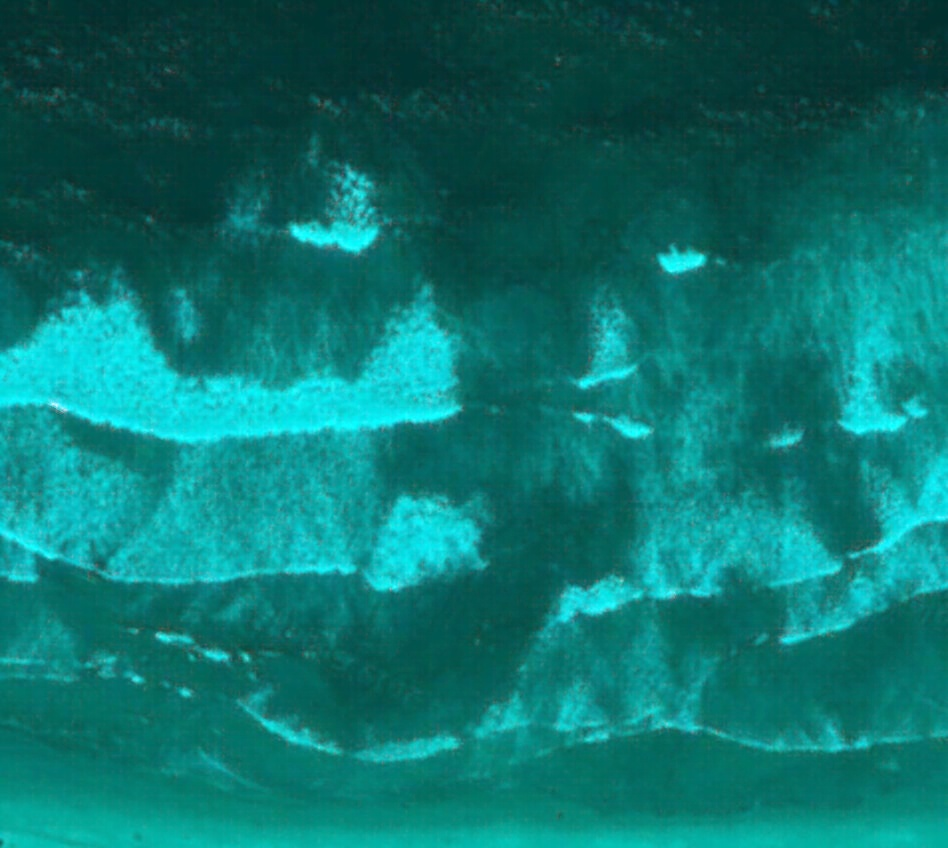rip_current: (340, 249, 715, 711)
